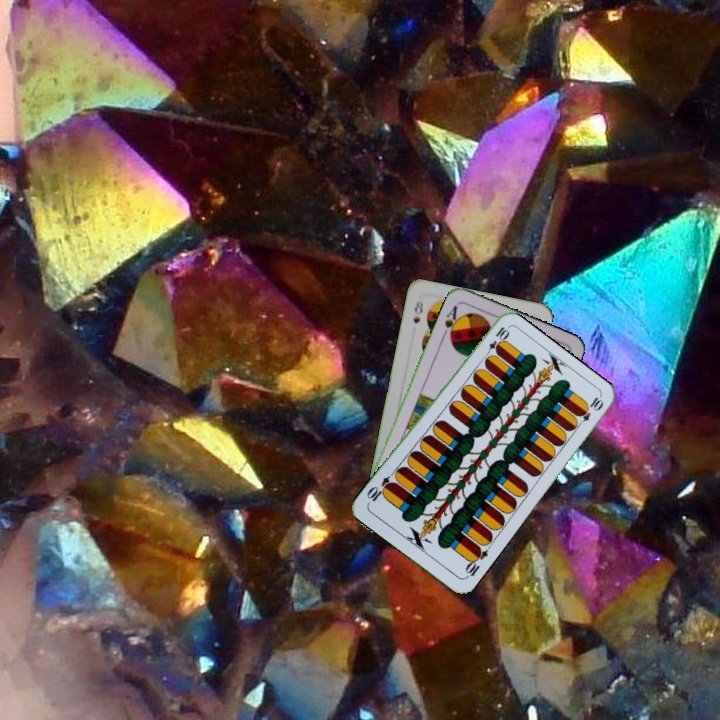E10: (481, 323, 511, 360), (461, 543, 490, 581)
S8: (409, 296, 426, 326)
SA: (439, 301, 463, 341)
